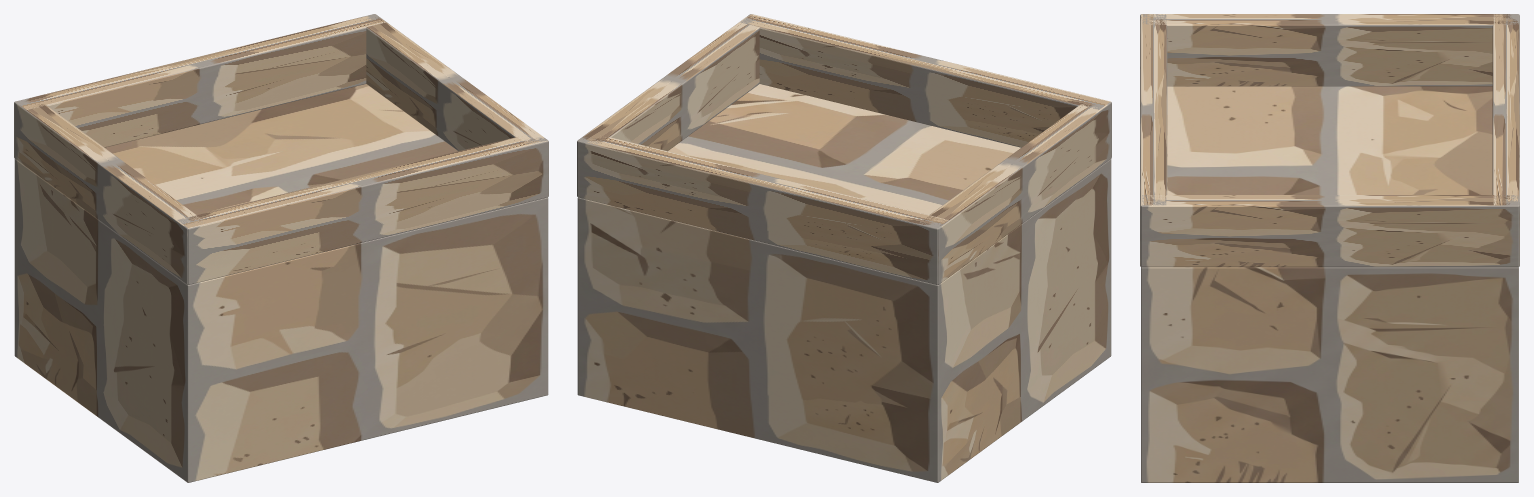
Rendered from greek_house_walkable_roof_LOD2.glb.
The picture shows the model from 3 angles, left to right: view 1: azimuth 30°, elevation 25°; view 2: azimuth 150°, elevation 25°; view 3: azimuth 270°, elevation 25°; orthographic projection. The views are drawn at different scales.
Visible parts, largest first — view 1: LOD_House.001, LOD_Parapet.004, LOD_Parapet.005, LOD_Parapet.006, LOD_Parapet.007; view 2: LOD_House.001, LOD_Parapet.005, LOD_Parapet.004, LOD_Parapet.006, LOD_Parapet.007; view 3: LOD_House.001, LOD_Parapet.007, LOD_Parapet.006, LOD_Parapet.004, LOD_Parapet.005.
Part boxes in pixels (<box>): LOD_House.001: <box>14,84,548,482</box>; LOD_Parapet.004: <box>177,137,548,284</box>; LOD_Parapet.005: <box>15,14,385,147</box>; LOD_Parapet.006: <box>14,102,204,284</box>; LOD_Parapet.007: <box>360,14,548,195</box>; LOD_House.001: <box>577,84,1111,482</box>; LOD_Parapet.005: <box>577,137,948,284</box>; LOD_Parapet.004: <box>740,14,1110,147</box>; LOD_Parapet.006: <box>919,102,1111,284</box>; LOD_Parapet.007: <box>577,14,759,195</box>; LOD_House.001: <box>1141,86,1518,482</box>; LOD_Parapet.007: <box>1141,195,1518,267</box>; LOD_Parapet.006: <box>1141,14,1518,86</box>; LOD_Parapet.004: <box>1140,14,1167,266</box>; LOD_Parapet.005: <box>1492,14,1519,266</box>.
Size of the model in its own units: 6.02 by 4.05 by 5.02.
1 material, 1 textured.
